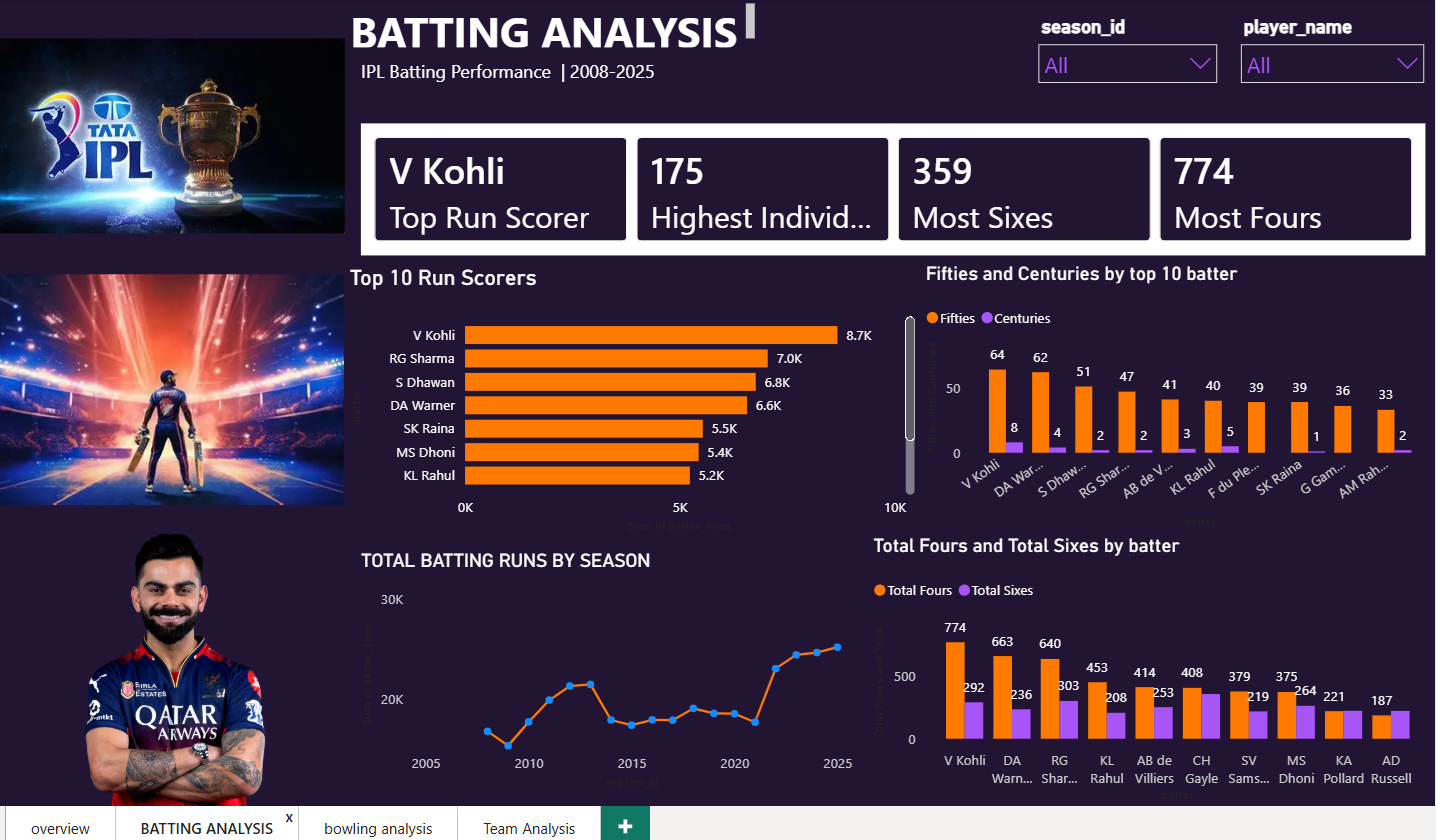

What the dashboard file says about the page in this screenshot:
{"tool":"powerbi","page":{"name":"BATTING ANALYSIS","canvas":[1280,720],"ordinal":1},"visuals":[{"type":"textbox","box":[308.7,0,370.5,49.4],"z":0},{"type":"textbox","box":[318.4,49.4,337.6,38.4],"z":1000},{"type":"cardVisual","fields":{"Data":["ball_by_ball_data.Top Run Scorer","ball_by_ball_data.Highest Individual Score","ball_by_ball_data.Most Sixes","ball_by_ball_data.Most Fours"]},"box":[318.4,107,961.9,127.6],"z":2000},{"type":"clusteredBarChart","title":"Top 10 Run Scorers","fields":{"Category":["ball_by_ball_data.batter"],"Y":["Sum(ball_by_ball_data.batter_runs)"]},"box":[308.7,238.8,513.2,242.9],"z":3000},{"type":"clusteredColumnChart","fields":{"Category":["ball_by_ball_data.batter"],"Y":["ball_by_ball_data.Total Fours","ball_by_ball_data.Total Sixes"]},"box":[775.3,477.5,505,242.9],"z":4000},{"type":"clusteredColumnChart","title":"Fifties and Centuries by top 10 batter","fields":{"Category":["ball_by_ball_data.batter"],"Y":["ball_by_ball_data.Fifties","ball_by_ball_data.Centuries"]},"box":[822,234.6,458.3,242.9],"z":5000},{"type":"lineChart","title":"TOTAL BATTING RUNS BY SEASON","fields":{"Category":["ipl_matches_data.season_id"],"Y":["Sum(ball_by_ball_data.batter_runs)"]},"box":[318.6,490.7,447.3,218.2],"z":6000},{"type":"slicer","fields":{"Values":["ball_by_ball_data.season_id"]},"box":[916.6,9.6,179.8,97.4],"z":7000},{"type":"slicer","fields":{"Values":["players-data-updated.player_name"]},"box":[1096.4,9.6,183.9,97.4],"z":8000},{"type":"image","box":[0,466.3,309.3,253.5],"z":9000},{"type":"image","box":[0,0,308.7,245.6],"z":10000},{"type":"image","box":[0,246.5,309.3,205.8],"z":11000}]}

Visuals, with their boxes on the page's 1280x720 design canvas (x1, y1, x2, y2). These are canvas units, not pixel positions in the 1436x840 screenshot, which may show the page scaled, cropped or inside an application window:
textbox: [x1=309, y1=0, x2=679, y2=49]
textbox: [x1=318, y1=49, x2=656, y2=88]
cardVisual - ball_by_ball_data.Top Run Scorer x ball_by_ball_data.Highest Individual Score: [x1=318, y1=107, x2=1280, y2=235]
"Top 10 Run Scorers" clusteredBarChart: [x1=309, y1=239, x2=822, y2=482]
clusteredColumnChart - ball_by_ball_data.batter x ball_by_ball_data.Total Fours: [x1=775, y1=478, x2=1280, y2=720]
"Fifties and Centuries by top 10 batter" clusteredColumnChart: [x1=822, y1=235, x2=1280, y2=478]
"TOTAL BATTING RUNS BY SEASON" lineChart: [x1=319, y1=491, x2=766, y2=709]
slicer - ball_by_ball_data.season_id: [x1=917, y1=10, x2=1096, y2=107]
slicer - players-data-updated.player_name: [x1=1096, y1=10, x2=1280, y2=107]
image: [x1=0, y1=466, x2=309, y2=720]
image: [x1=0, y1=0, x2=309, y2=246]
image: [x1=0, y1=246, x2=309, y2=452]
